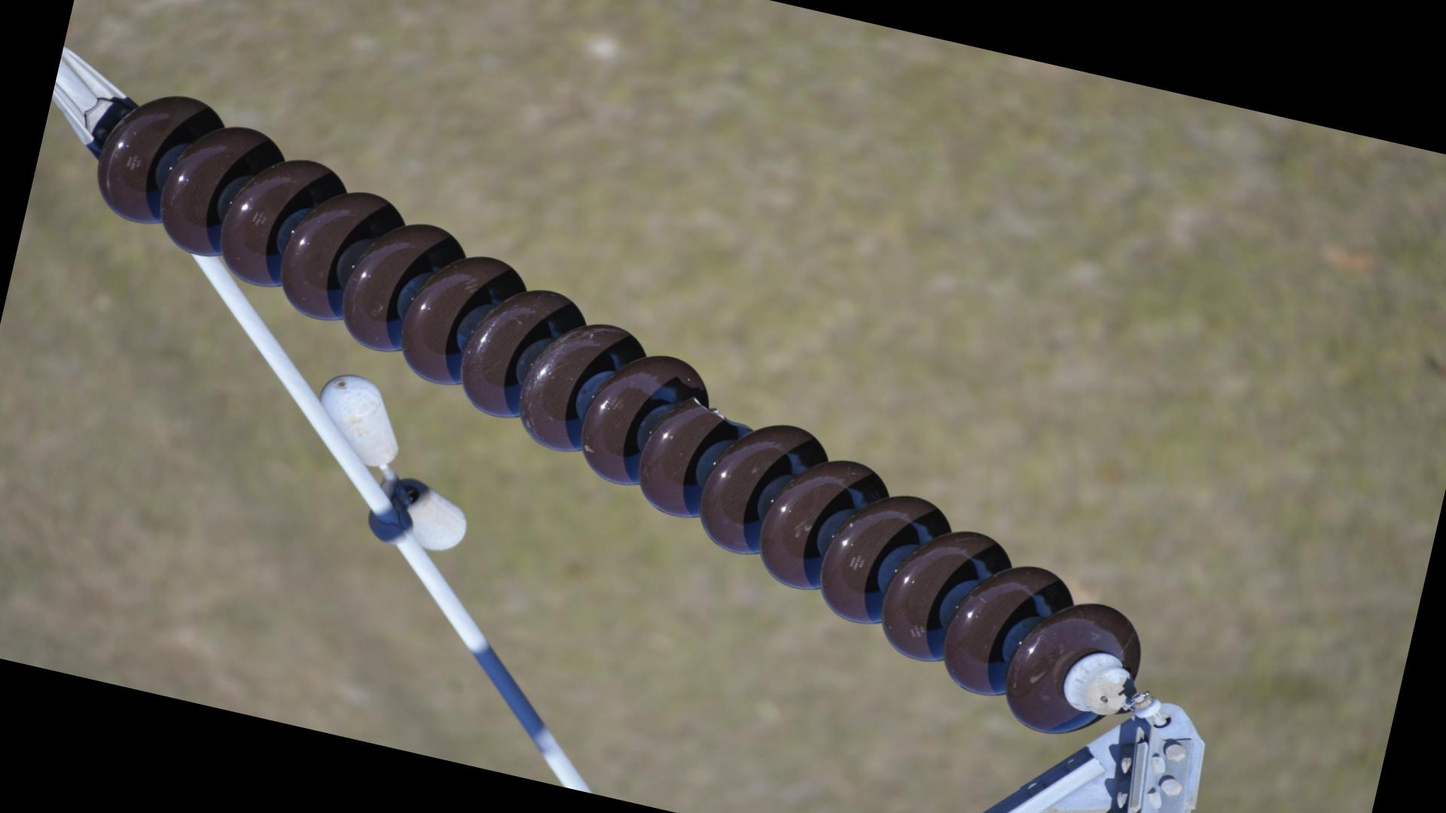damper: (284, 362, 502, 568)
